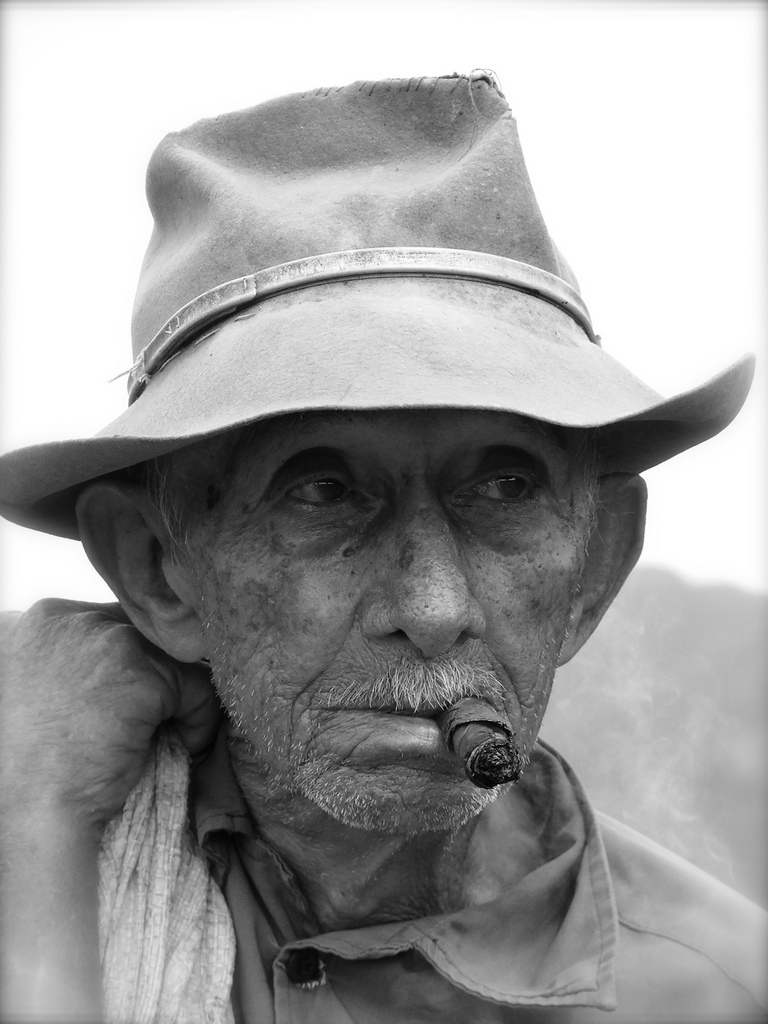cigarette: (434, 705, 527, 791)
